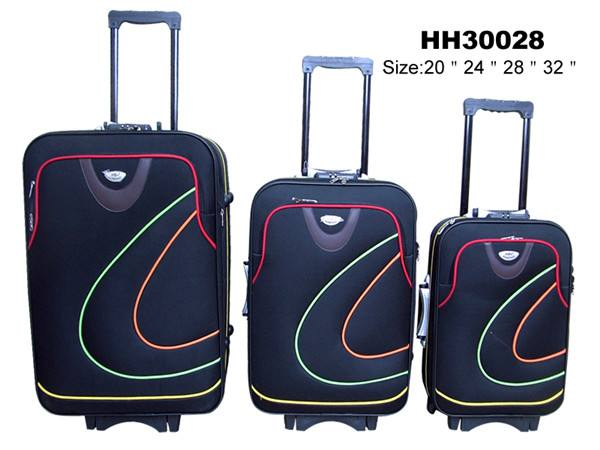luggage: (21, 10, 234, 433), (419, 95, 574, 431)
